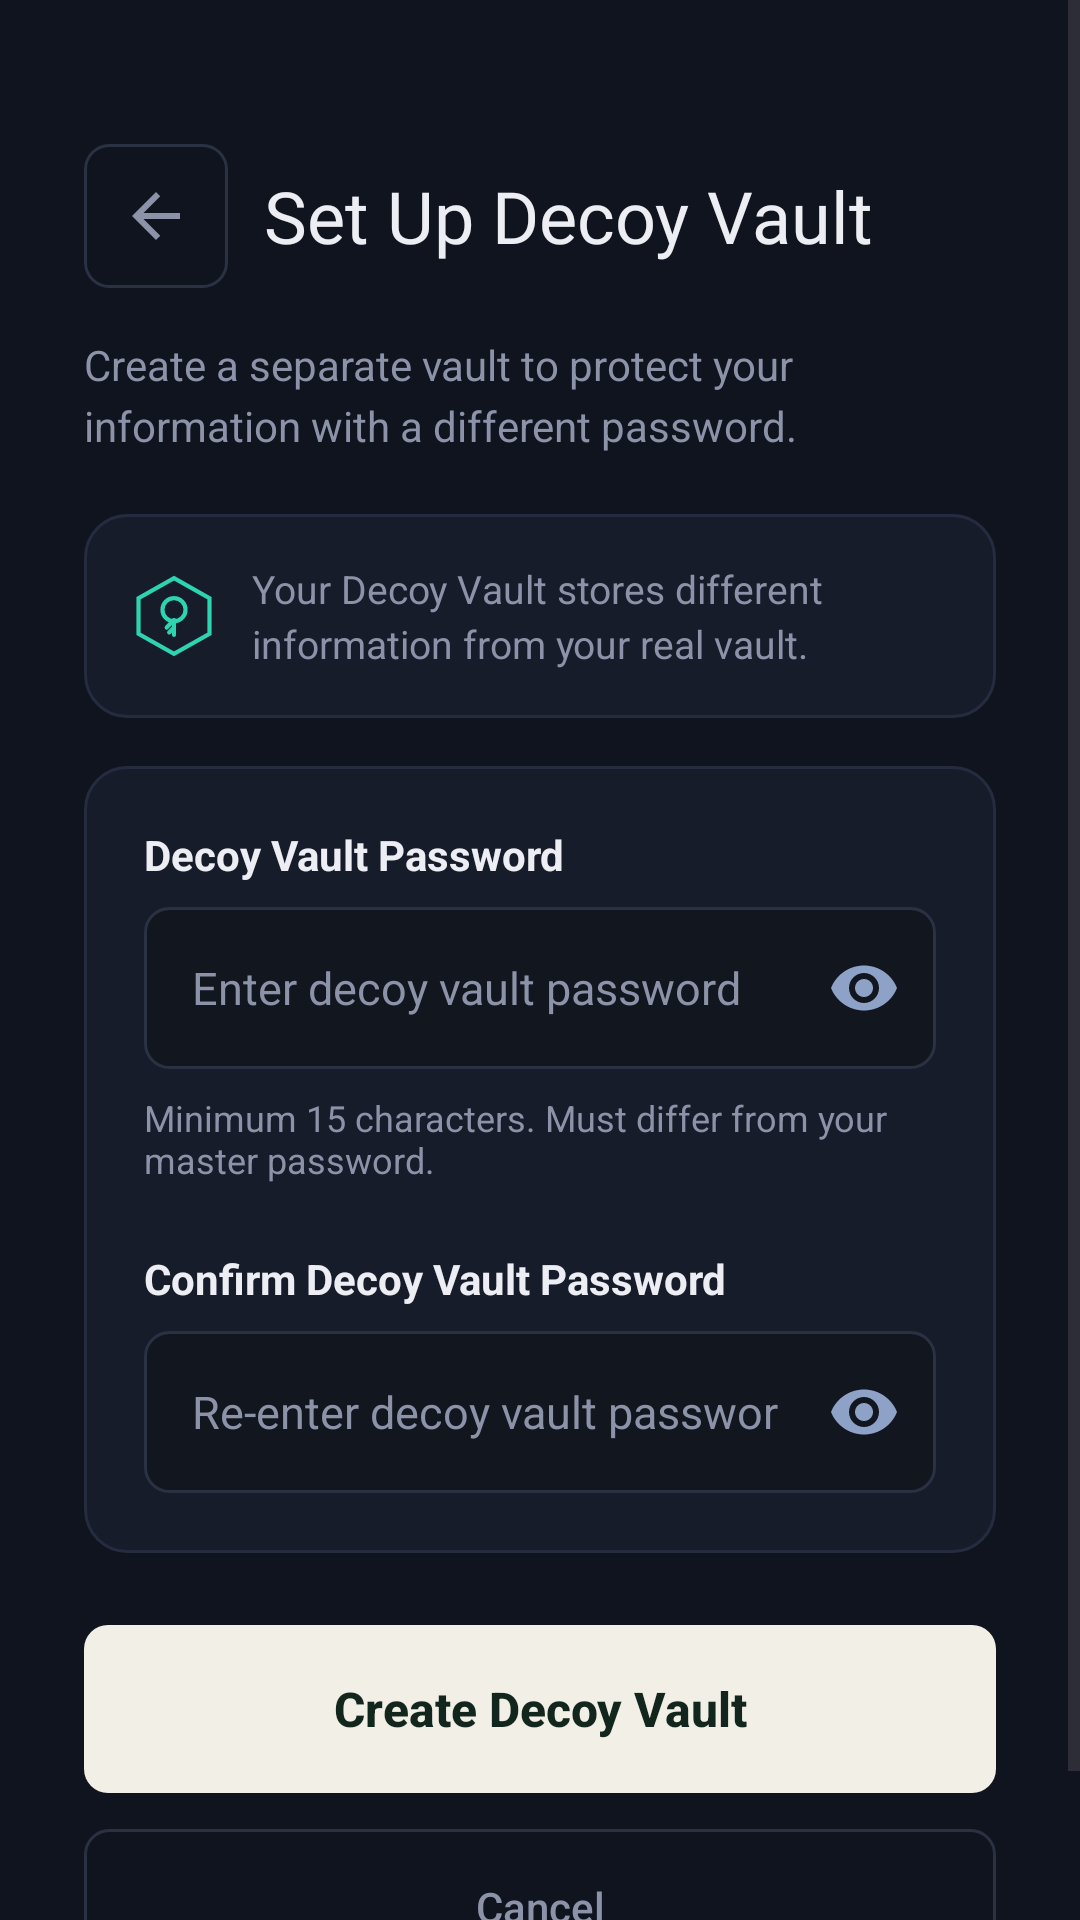

Icon bounding boxes for this 1080px×1920px phone screenshot, format (x1=x1, y1=y1, x2=x2, y2=y2):
Back: (x1=84, y1=144, x2=228, y2=288)
Show password: (x1=831, y1=965, x2=897, y2=1011), (x1=831, y1=1389, x2=897, y2=1435)
